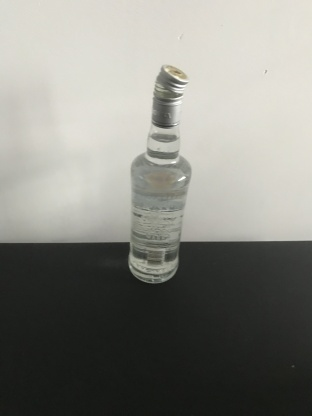nakretka: (150, 61, 190, 129)
